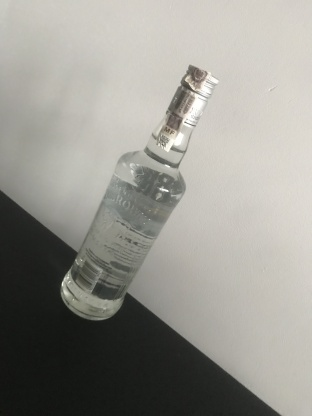nakretka: (165, 65, 219, 130)
